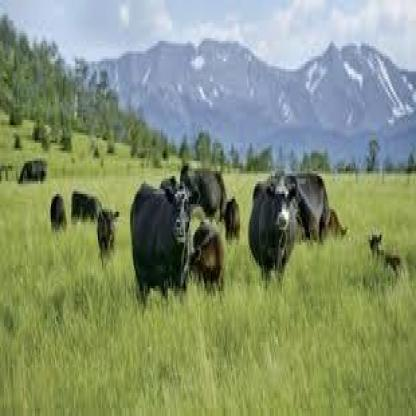cow: (129, 178, 200, 298), (248, 176, 301, 288), (274, 171, 329, 245), (179, 158, 228, 225), (189, 222, 226, 294), (366, 233, 402, 272), (95, 208, 121, 259), (71, 190, 102, 221), (222, 198, 242, 244), (326, 207, 349, 240), (17, 160, 47, 182), (50, 194, 66, 230)
